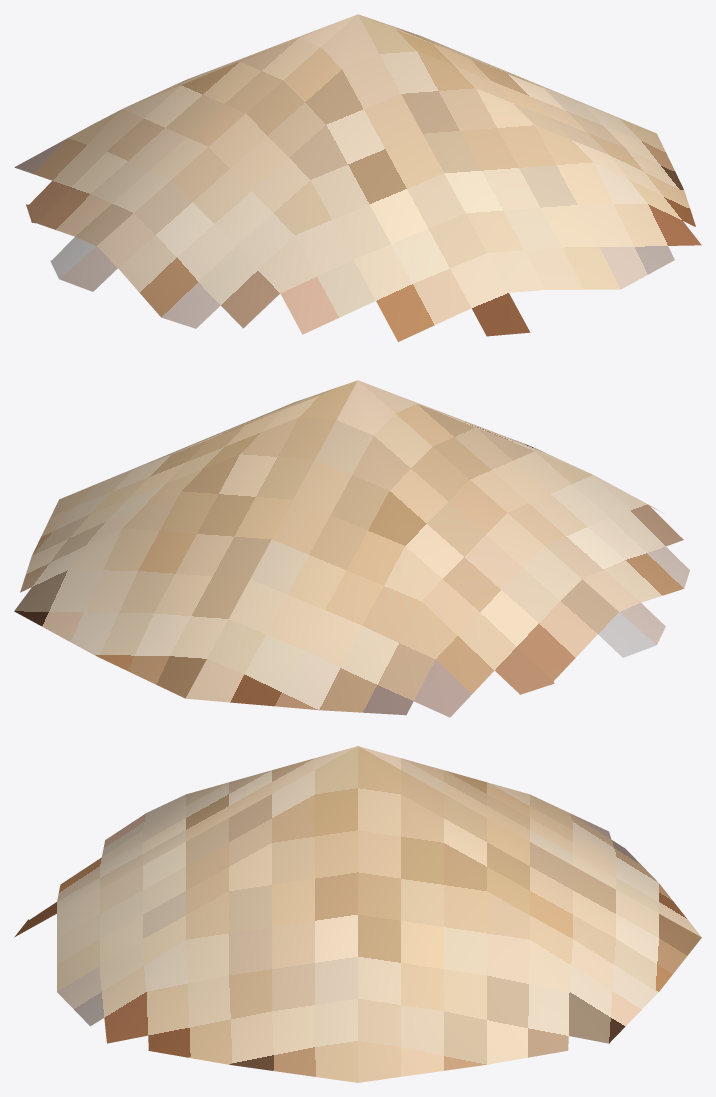
Rendered from Stump.fbx.
The picture shows the model from 3 angles, top to bottom: view 1: azimuth 30°, elevation 25°; view 2: azimuth 150°, elevation 25°; view 3: azimuth 270°, elevation 25°; orthographic projection.
Parts seen in each view (by area): view 1: Stump; view 2: Stump; view 3: Stump.
Part boxes in pixels (x1=…): Stump: x1=14, y1=14, x2=701, y2=341; Stump: x1=14, y1=380, x2=689, y2=717; Stump: x1=14, y1=746, x2=701, y2=1082.
Bounding box in the file's own units: 100 × 30.72 × 100.
1 material, 1 textured.
